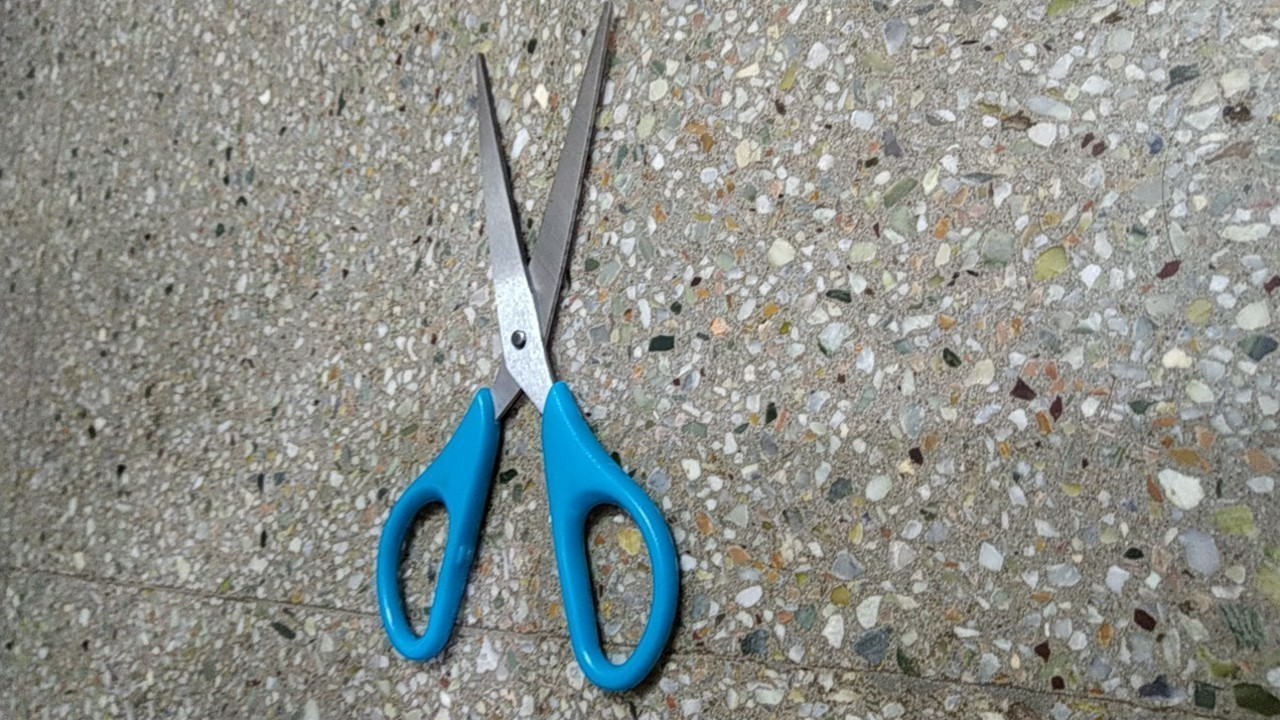scissor: (367, 5, 696, 710)
